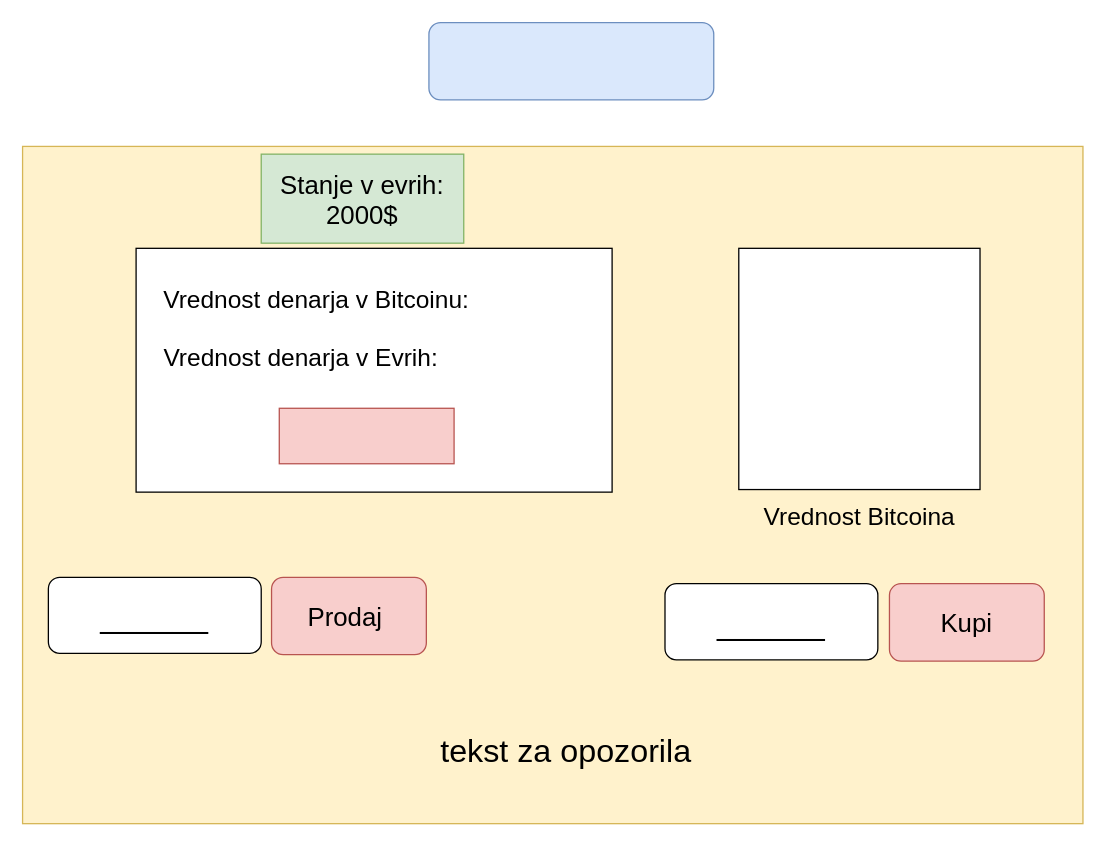
Image size: 1106x846. Some labels were removed from this diagram. The centre of each missing label's shape, as x and y in pixels:
"Graf" belongs at pixel 858 368.
"Kripto borza - ekran 3" belongs at pixel 571 60.
"Nazaj na hišo" belongs at pixel 366 435.
